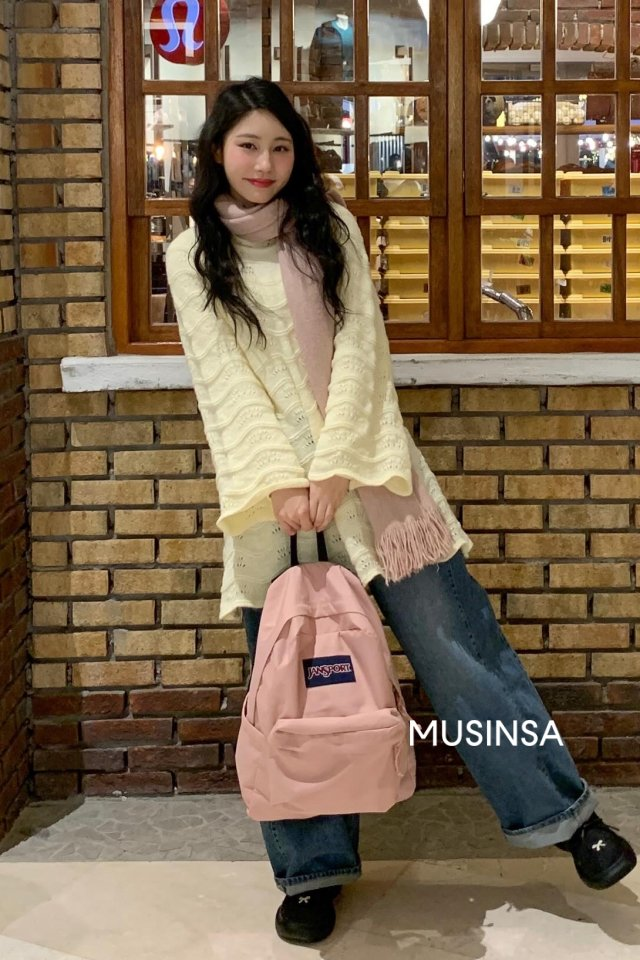Backpack: (234, 553, 415, 825)
Muffler: (211, 192, 344, 406)
Pants: (244, 555, 594, 839)
Shoes: (273, 808, 637, 943)
Top: (169, 217, 420, 488)
